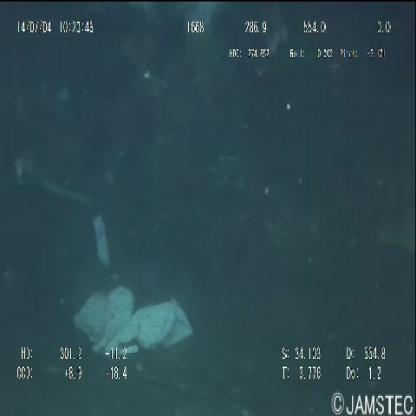Rác: (76, 288, 194, 354)
